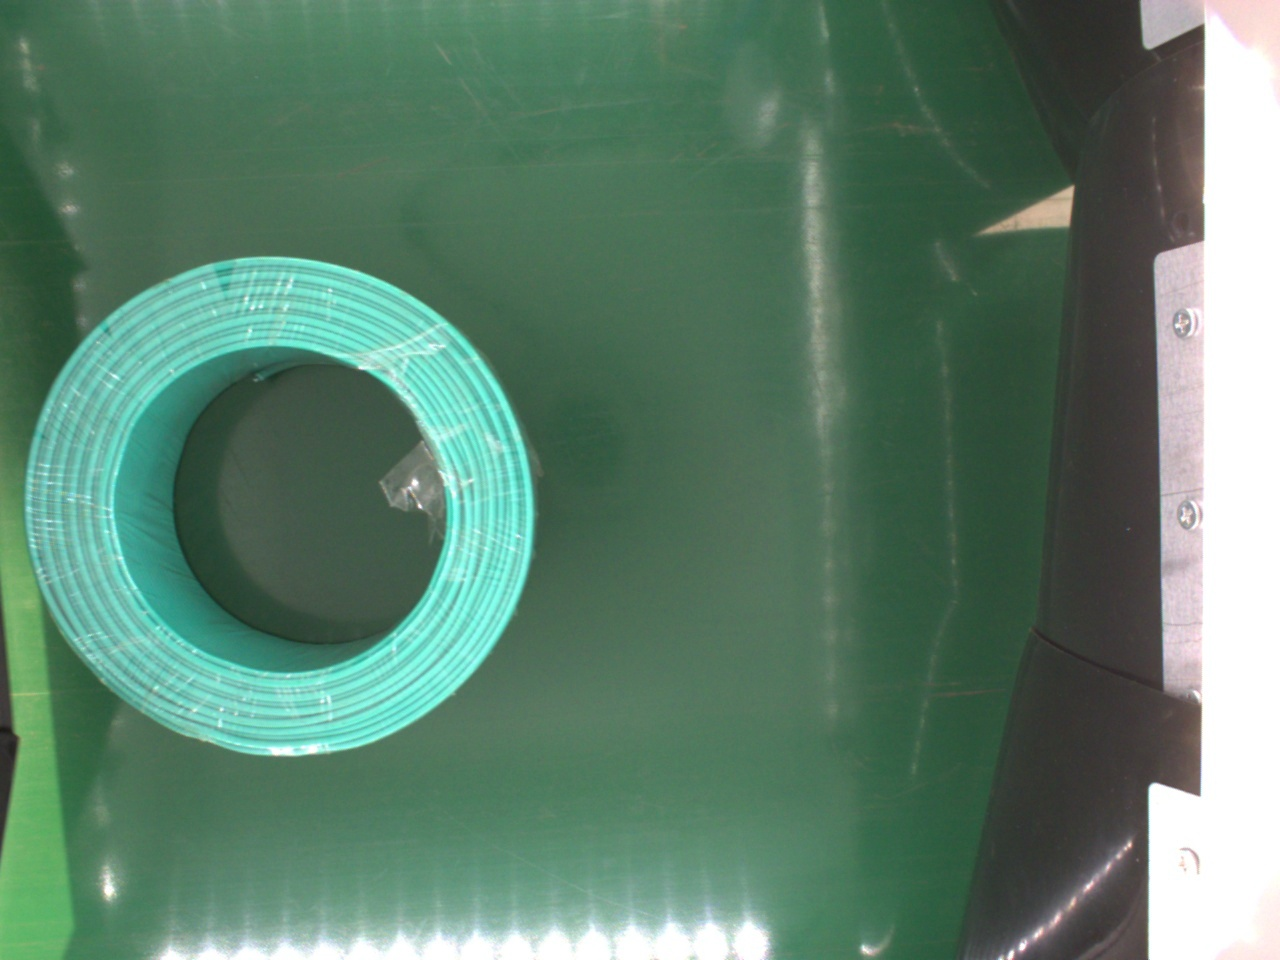green: (25, 245, 537, 759)
